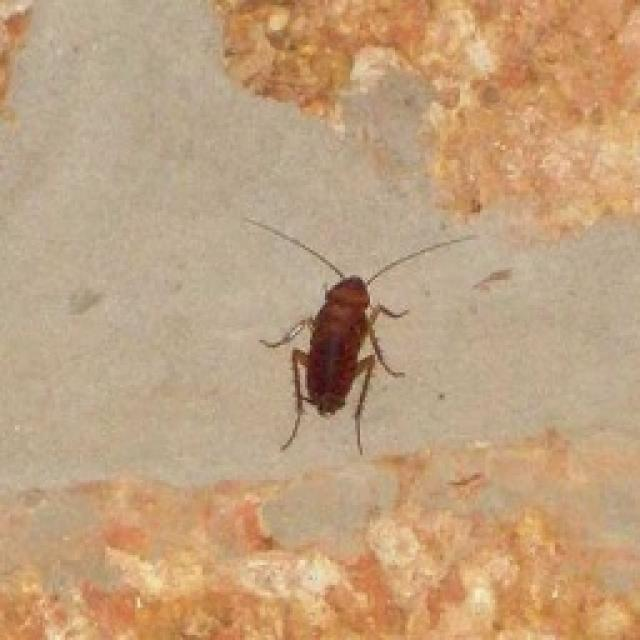cockroach: (238, 212, 483, 458), (302, 274, 376, 416)
